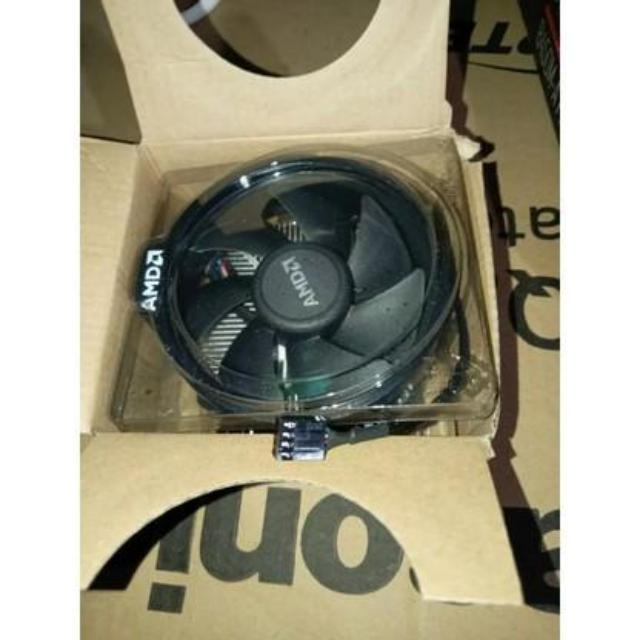CPU_Fan: (138, 140, 464, 408)
